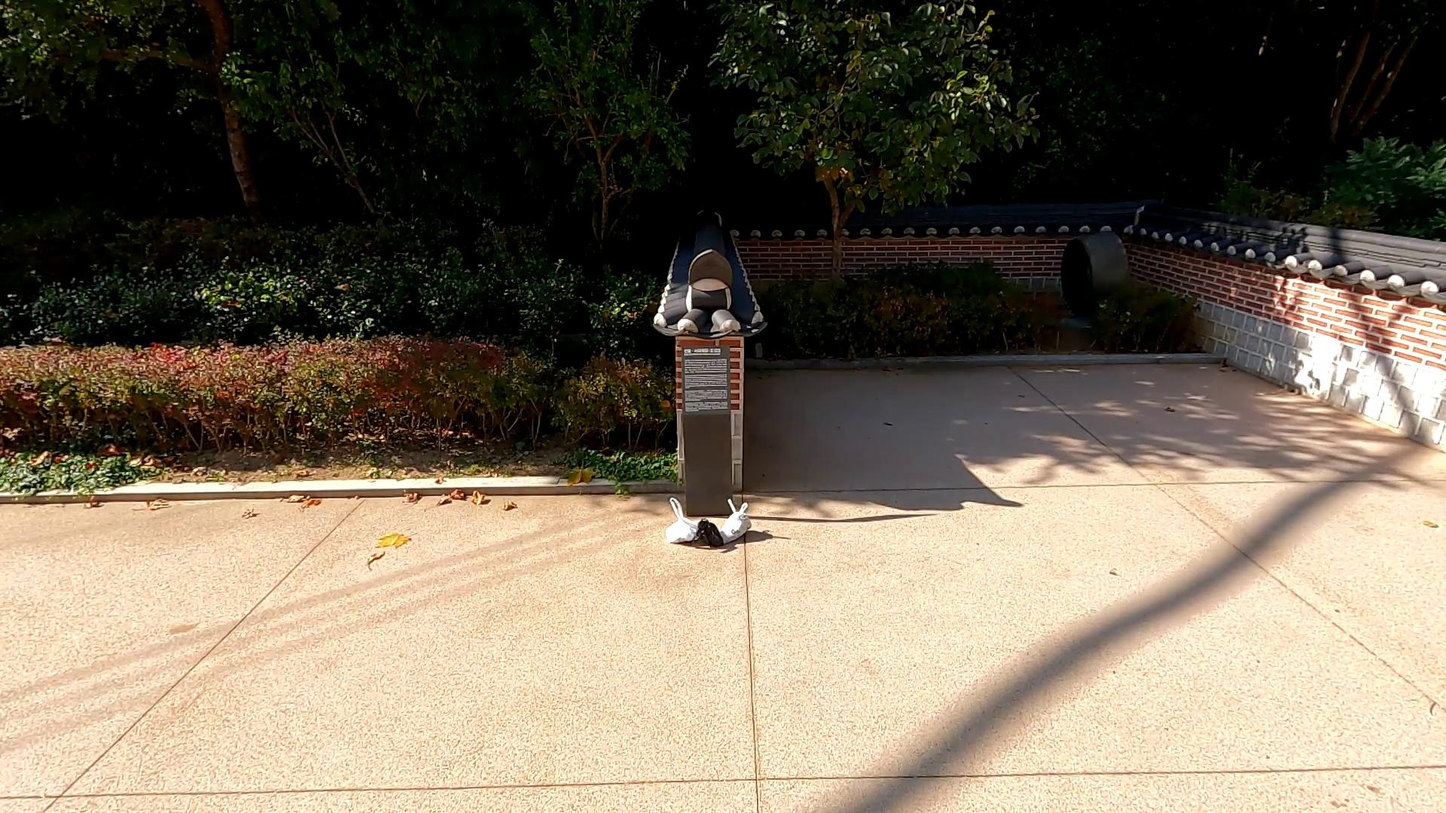trash: (662, 491, 707, 545), (717, 500, 758, 545), (693, 517, 729, 548)
